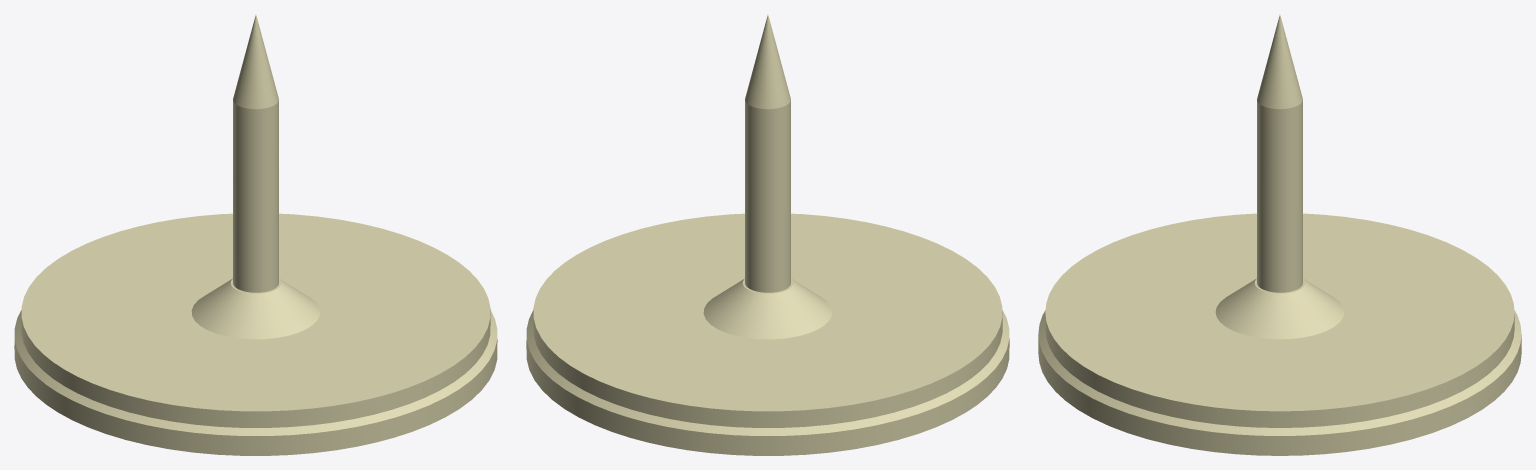
The picture shows the model from 3 angles, left to right: view 1: azimuth 30°, elevation 25°; view 2: azimuth 150°, elevation 25°; view 3: azimuth 270°, elevation 25°; orthographic projection.
Parts seen in each view (by area): view 1: Body1; view 2: Body1; view 3: Body1.
Part boxes in pixels (x1,y1,x2,y2): Body1: (14,15,497,455); Body1: (526,15,1009,455); Body1: (1038,15,1521,455).
Size of the model in its own units: 0.0105 by 0.00815 by 0.0105.
